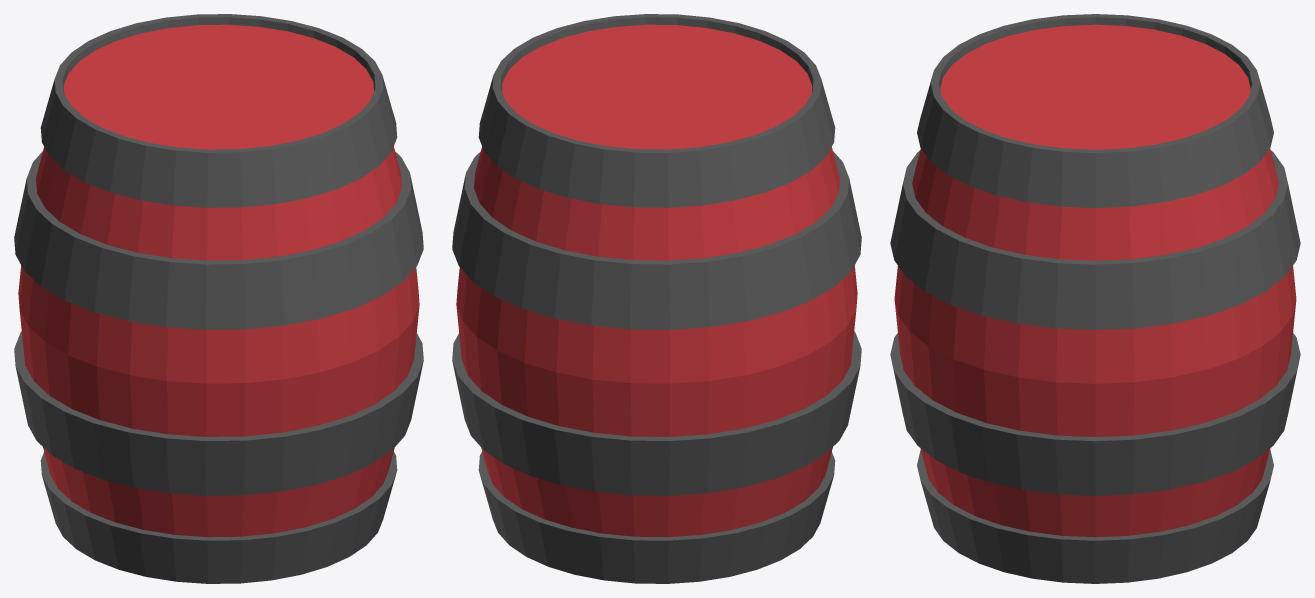
File: tnt_barrel.fbx
3 views of the same model, side by side, from view 1: azimuth 30°, elevation 25°; view 2: azimuth 150°, elevation 25°; view 3: azimuth 270°, elevation 25° (orthographic).
Parts seen in each view (by area): view 1: Cylinder; view 2: Cylinder; view 3: Cylinder.
Boxes of the visible parts, x1=… form: Cylinder: x1=14, y1=14, x2=423, y2=583; Cylinder: x1=452, y1=14, x2=861, y2=583; Cylinder: x1=890, y1=14, x2=1300, y2=583.
Bounding box in the file's own units: 270 × 313 × 270.
